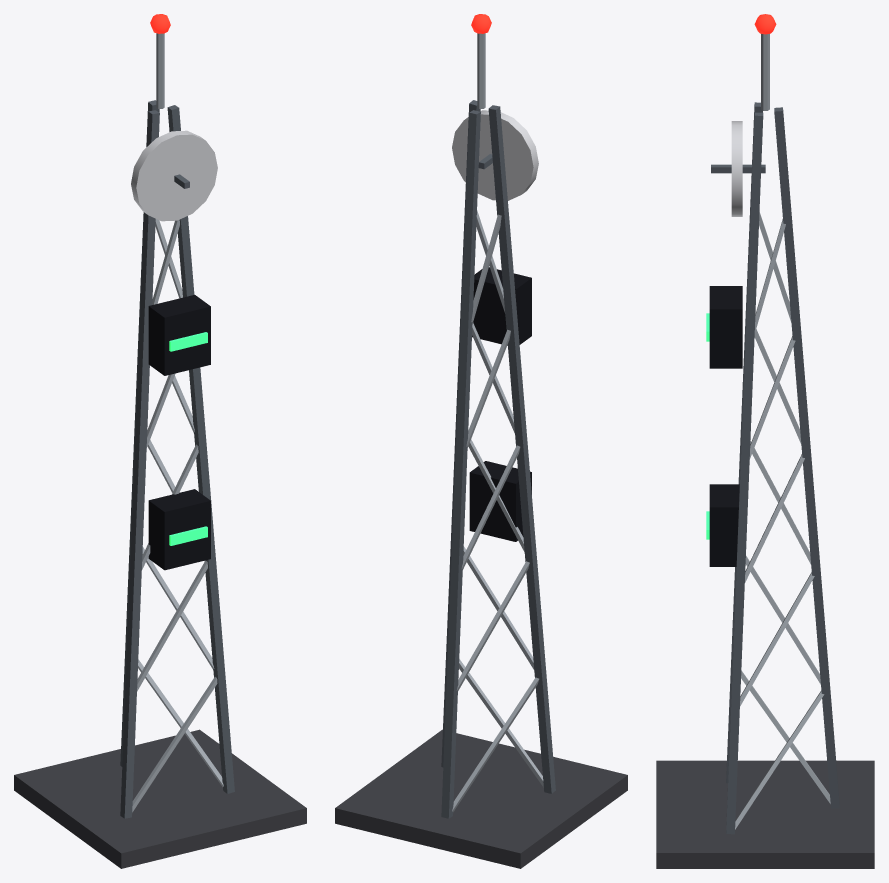
File: antenna_mast.glb
3 views of the same model, side by side, from view 1: azimuth 30°, elevation 25°; view 2: azimuth 150°, elevation 25°; view 3: azimuth 270°, elevation 25° (orthographic).
Visible parts, largest first — view 1: antenna_mast; view 2: antenna_mast; view 3: antenna_mast.
Boxes of the visible parts, bbox=[...] form: antenna_mast: bbox=[14, 14, 306, 868]; antenna_mast: bbox=[335, 14, 627, 868]; antenna_mast: bbox=[656, 14, 874, 868].
Size of the model in its own units: 1 by 4.08 by 1.
